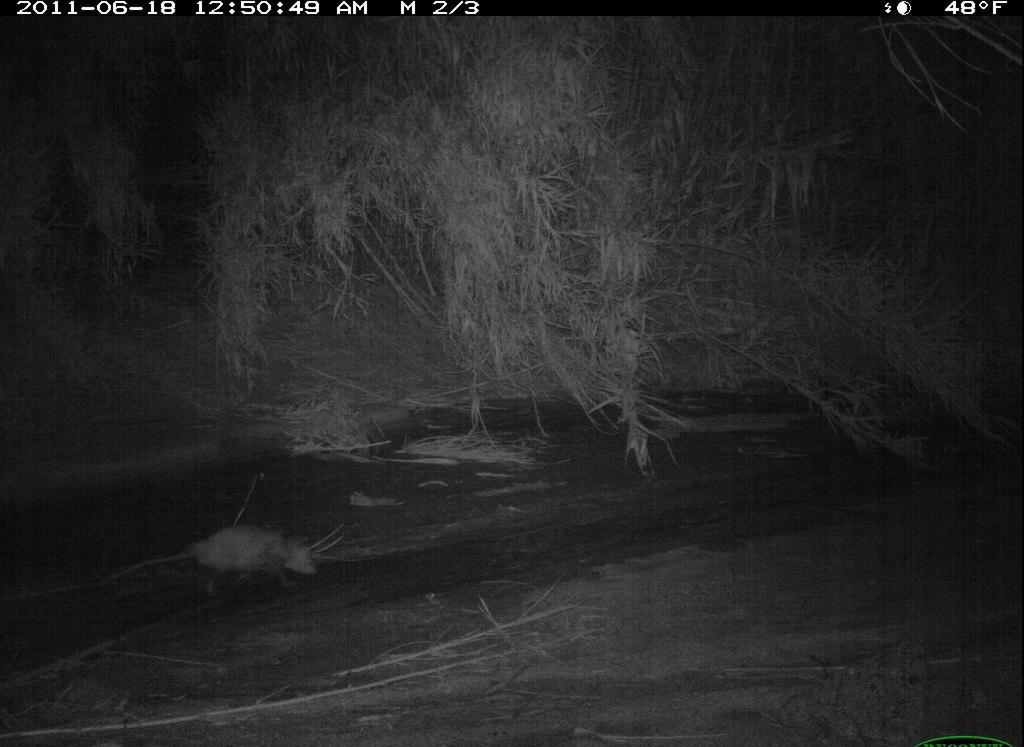opossum: (108, 511, 329, 610)
